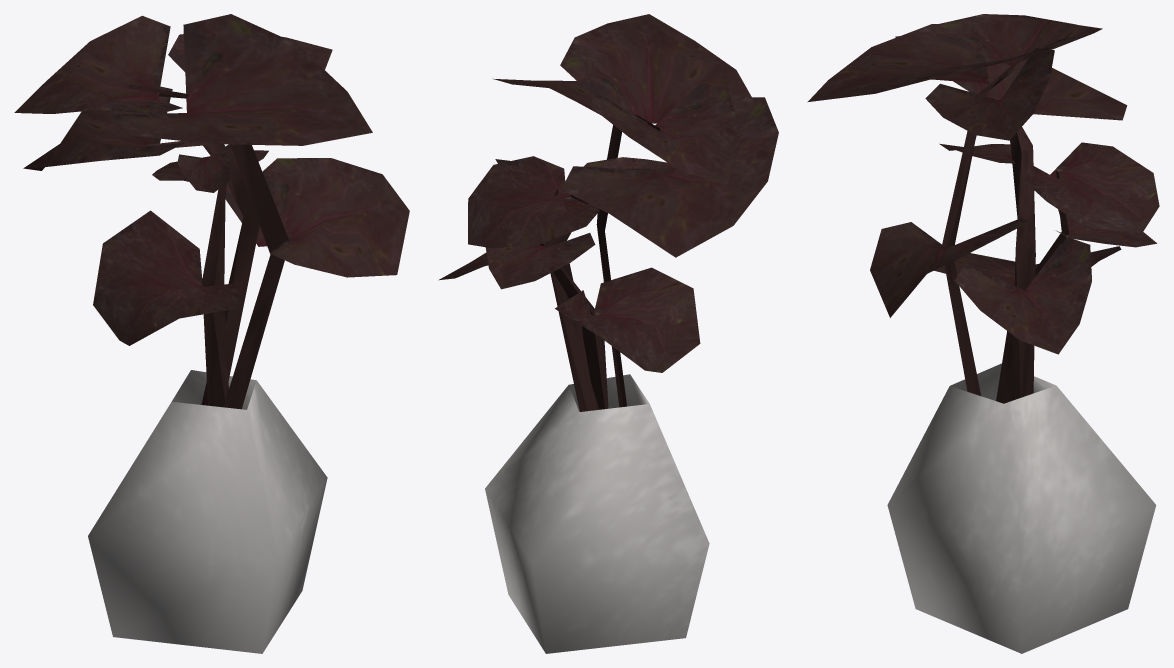
Rendered from plant02.fbx.
3 views of the same model, side by side, from view 1: azimuth 30°, elevation 25°; view 2: azimuth 150°, elevation 25°; view 3: azimuth 270°, elevation 25° (orthographic). The views are drawn at different scales.
Visible parts, largest first — view 1: plant02; view 2: plant02; view 3: plant02.
Boxes of the visible parts, <box> form: plant02: <box>14,14,409,653</box>; plant02: <box>438,14,778,653</box>; plant02: <box>807,14,1159,653</box>.
Size of the model in its own units: 95.94 by 167 by 93.71.
1 material, 1 textured.
